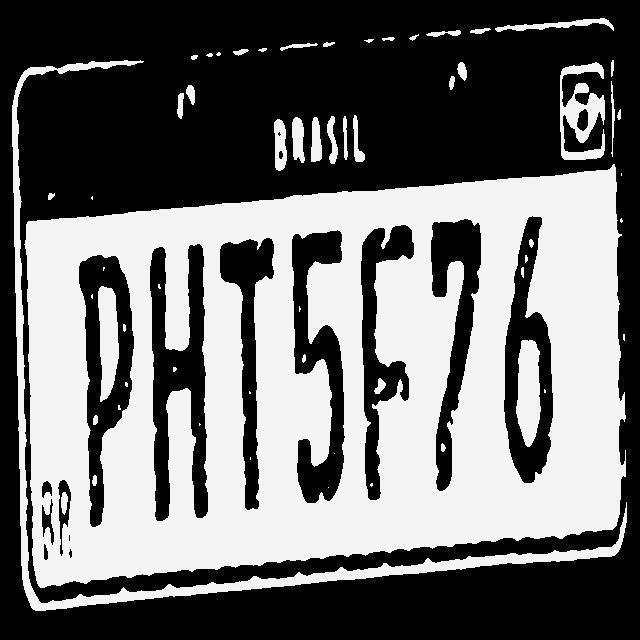5: (282, 214, 358, 520)
6: (502, 206, 580, 504)
7: (418, 208, 493, 508)
f: (348, 216, 422, 520)
h: (140, 220, 217, 542)
p: (68, 244, 146, 542)
t: (216, 217, 284, 527)
